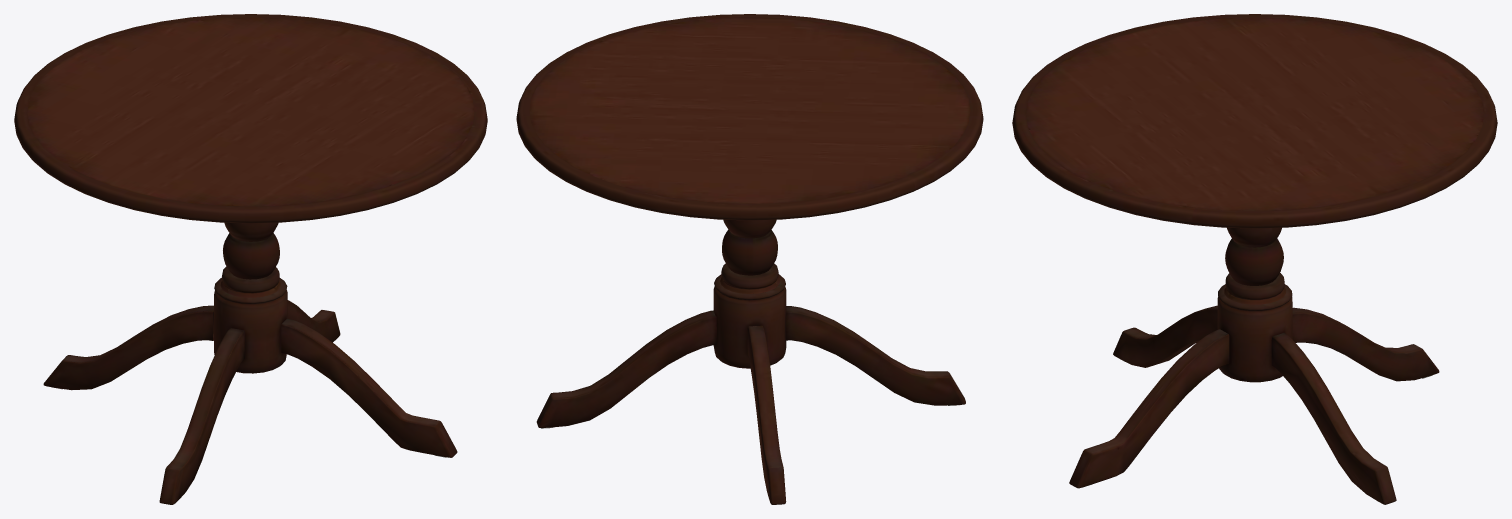
Rendered from round_wooden_table_01.glb.
3 views of the same model, side by side, from view 1: azimuth 30°, elevation 25°; view 2: azimuth 150°, elevation 25°; view 3: azimuth 270°, elevation 25° (orthographic). The views are drawn at different scales.
Parts seen in each view (by area): view 1: round_wooden_table_01; view 2: round_wooden_table_01; view 3: round_wooden_table_01.
Part boxes in pixels (bbox=[...]): round_wooden_table_01: bbox=[14, 14, 487, 504]; round_wooden_table_01: bbox=[516, 14, 983, 504]; round_wooden_table_01: bbox=[1012, 14, 1497, 504].
Size of the model in its own units: 1.4 by 1 by 1.4.
Materials: 1 (1 with a texture image).
